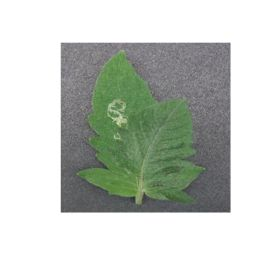liriomyza: (105, 100, 129, 131), (111, 132, 121, 140)
